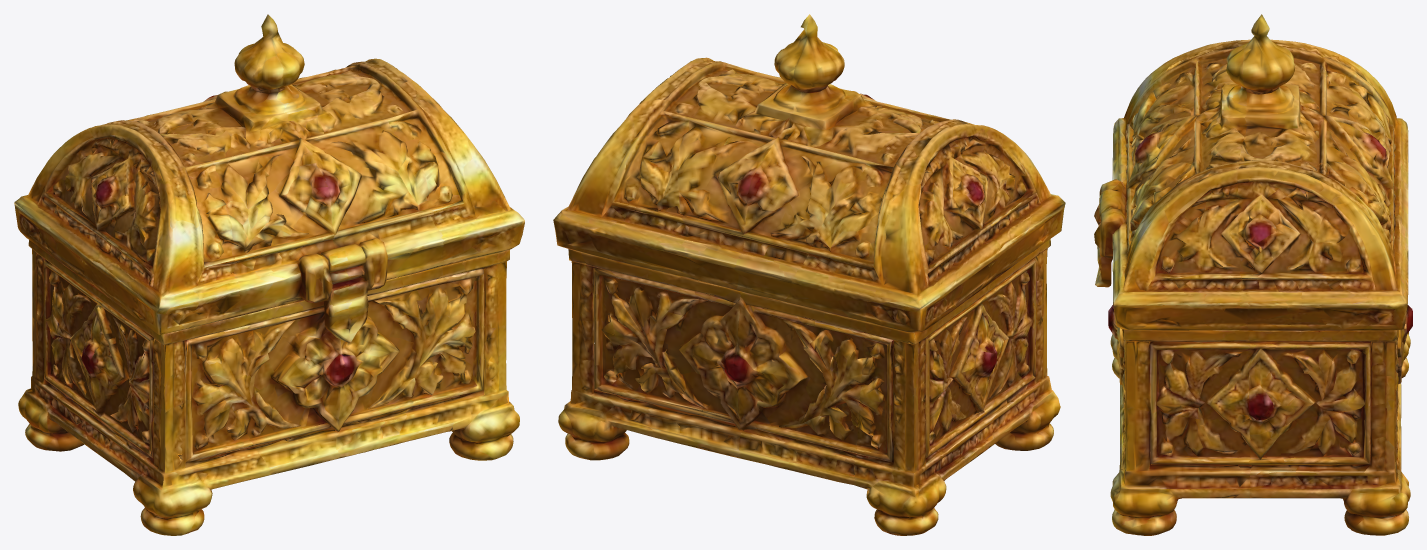
Rendered from gold.glb.
3 renders of one model, left to right at view 1: azimuth 30°, elevation 25°; view 2: azimuth 150°, elevation 25°; view 3: azimuth 270°, elevation 25°, orthographic.
Parts seen in each view (by area): view 1: tripo_node_ac8e5e86-dcee-4979-84c9-0922f01c6474; view 2: tripo_node_ac8e5e86-dcee-4979-84c9-0922f01c6474; view 3: tripo_node_ac8e5e86-dcee-4979-84c9-0922f01c6474.
Part boxes in pixels (left/top/right/bottom): tripo_node_ac8e5e86-dcee-4979-84c9-0922f01c6474: left=14, top=14, right=524, bottom=535; tripo_node_ac8e5e86-dcee-4979-84c9-0922f01c6474: left=553, top=14, right=1065, bottom=535; tripo_node_ac8e5e86-dcee-4979-84c9-0922f01c6474: left=1094, top=14, right=1412, bottom=535.
Size of the model in its own units: 0.8751 by 0.9768 by 0.6503.
1 material, 1 textured.
